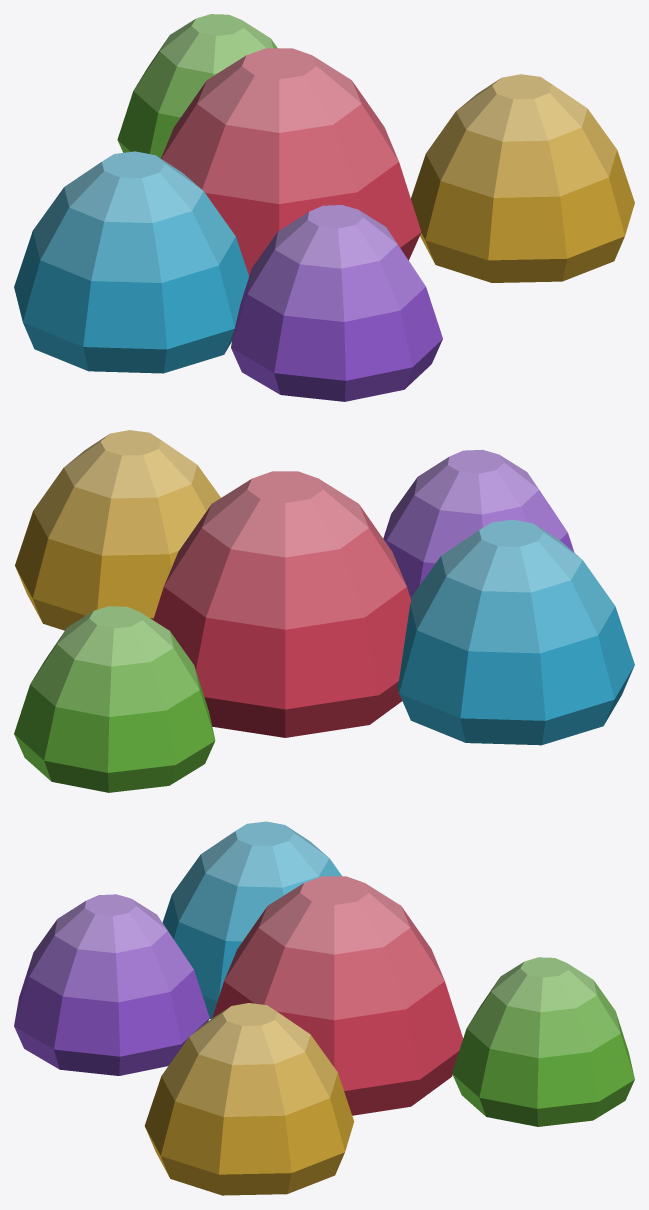
Rendered from gumdrop_cluster.glb.
3 renders of one model, top to bottom at view 1: azimuth 30°, elevation 25°; view 2: azimuth 150°, elevation 25°; view 3: azimuth 270°, elevation 25°, orthographic. The views are drawn at different scales.
Parts seen in each view (by area): view 1: gumdrop_cluster; view 2: gumdrop_cluster; view 3: gumdrop_cluster.
Boxes of the visible parts, bbox=[...] form: gumdrop_cluster: bbox=[14, 14, 634, 401]; gumdrop_cluster: bbox=[14, 430, 634, 792]; gumdrop_cluster: bbox=[14, 821, 634, 1195].
Size of the model in its own units: 0.8863 by 0.28 by 0.8859.
